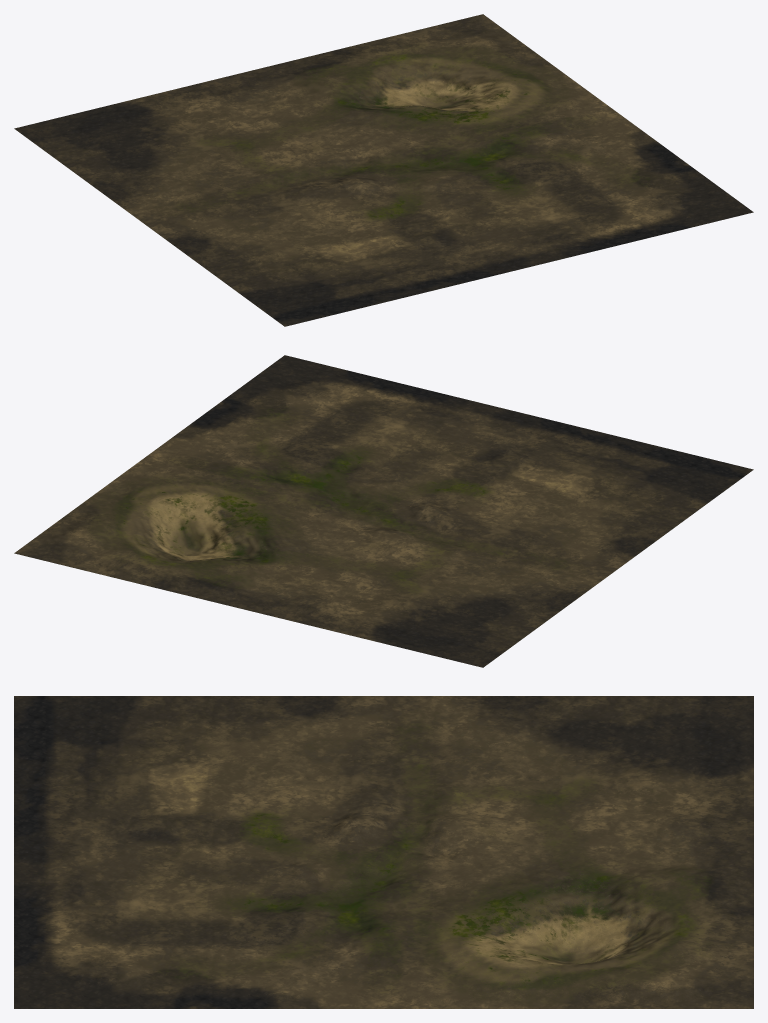
Rendered from Ground_Map_9.fbx.
3 renders of one model, top to bottom at view 1: azimuth 30°, elevation 25°; view 2: azimuth 150°, elevation 25°; view 3: azimuth 270°, elevation 25°, orthographic. The views are drawn at different scales.
Visible parts, largest first — view 1: Ground_Map_9; view 2: Ground_Map_9; view 3: Ground_Map_9.
Boxes of the visible parts, box(x1,y1,x2,y2) form: Ground_Map_9: box(14, 14, 753, 326); Ground_Map_9: box(14, 355, 753, 667); Ground_Map_9: box(14, 696, 753, 1008).
Size of the model in its own units: 9000 by 423 by 9000.
